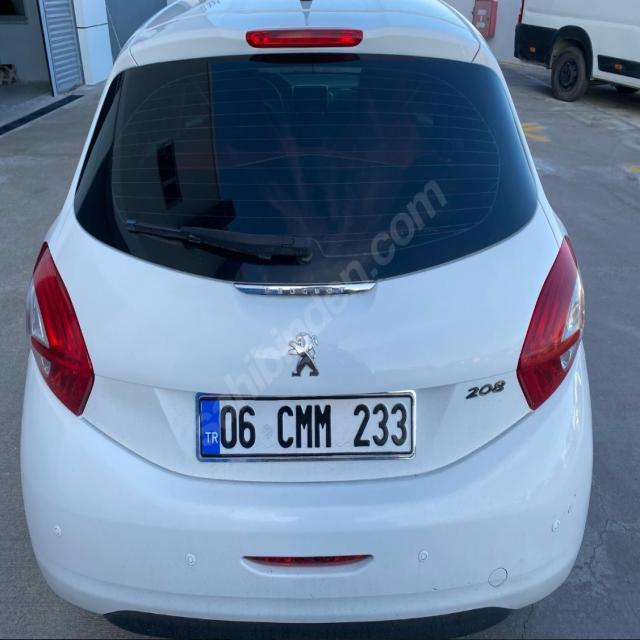pegout: (287, 328, 327, 381)
